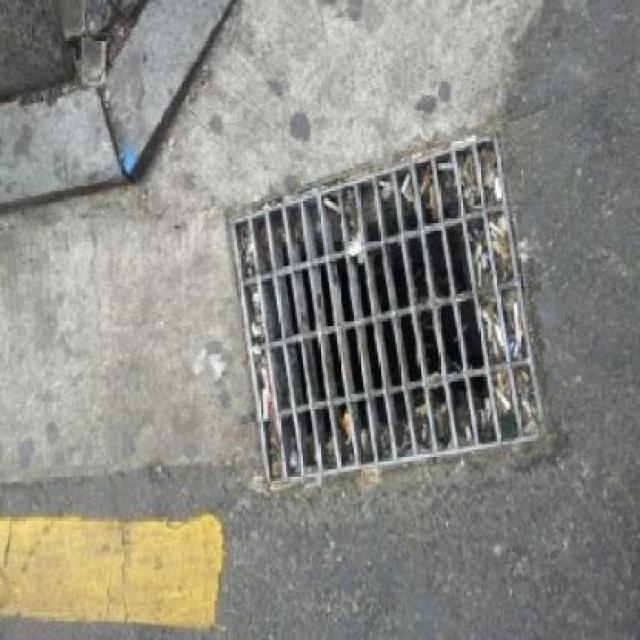Drain Hole: (203, 179, 566, 485)
